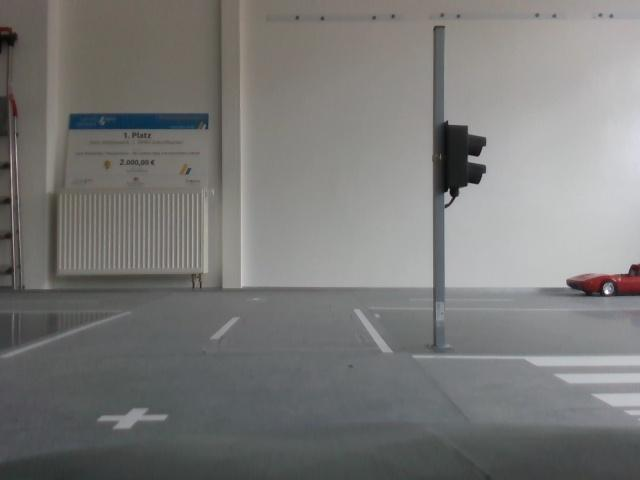car: (564, 253, 640, 305)
traffic light: (430, 121, 496, 204)
